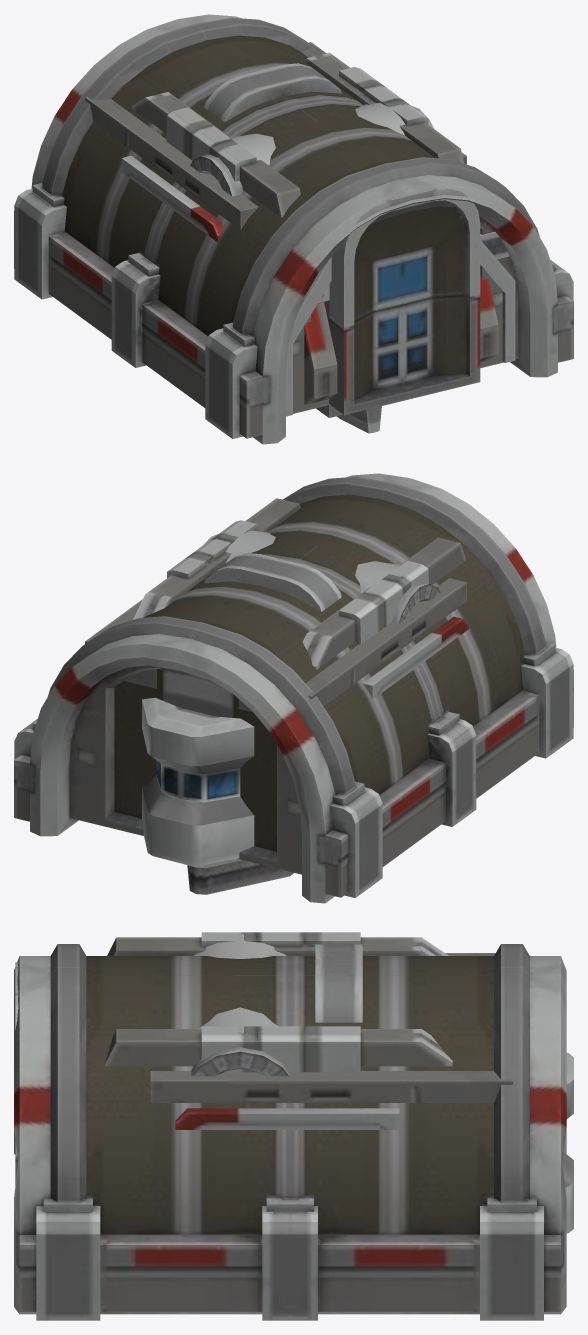
File: Part - Kit Main forms-oqHreEuh.glb
3 renders of one model, top to bottom at view 1: azimuth 30°, elevation 25°; view 2: azimuth 150°, elevation 25°; view 3: azimuth 270°, elevation 25°, orthographic. The views are drawn at different scales.
Visible parts, largest first — view 1: Main_form_HP_00.016, Main_form_HP_00.012, Main_form_HP_00.003, Main_form_HP_00.015, Main_form_HP_00.014, Main_form_HP_00.017, Main_form_HP_00.013; view 2: Main_form_HP_00.016, Main_form_HP_00.013, Main_form_HP_00.003, Main_form_HP_00.015, Main_form_HP_00.012; view 3: Main_form_HP_00.016, Main_form_HP_00.003, Main_form_HP_00.015, Main_form_HP_00.012, Main_form_HP_00.013.
Boxes of the visible parts, box(x1,y1,x2,y2) form: Main_form_HP_00.016: box(14, 14, 573, 444); Main_form_HP_00.012: box(190, 63, 480, 415); Main_form_HP_00.003: box(132, 52, 498, 404); Main_form_HP_00.015: box(85, 42, 466, 242); Main_form_HP_00.014: box(286, 240, 515, 416); Main_form_HP_00.017: box(316, 232, 509, 417); Main_form_HP_00.013: box(337, 406, 381, 433); Main_form_HP_00.016: box(14, 473, 573, 903); Main_form_HP_00.013: box(142, 697, 293, 894); Main_form_HP_00.003: box(133, 498, 465, 669); Main_form_HP_00.015: box(85, 578, 468, 712); Main_form_HP_00.012: box(204, 530, 440, 623); Main_form_HP_00.016: box(14, 944, 566, 1320); Main_form_HP_00.003: box(104, 932, 452, 1072); Main_form_HP_00.015: box(150, 953, 513, 1129); Main_form_HP_00.012: box(15, 934, 362, 1185); Main_form_HP_00.013: box(562, 1053, 573, 1233).
Size of the model in its own units: 3.1 by 2.44 by 3.79.
Materials: 1 (1 with a texture image).
